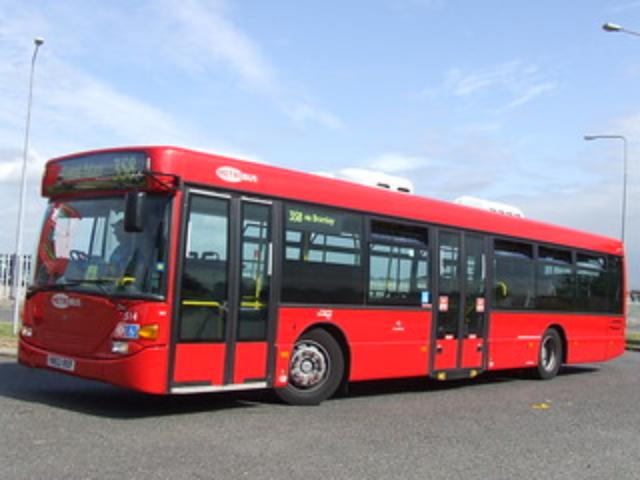bus: (16, 144, 628, 406)
